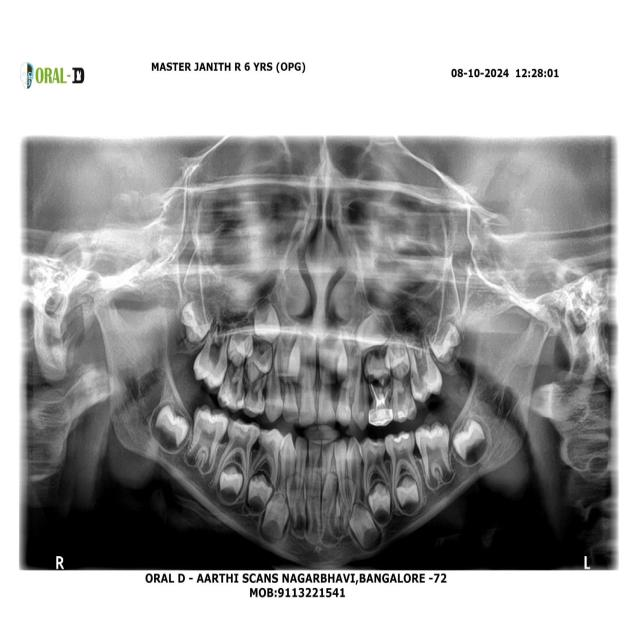Premolars: (359, 435, 394, 503)
